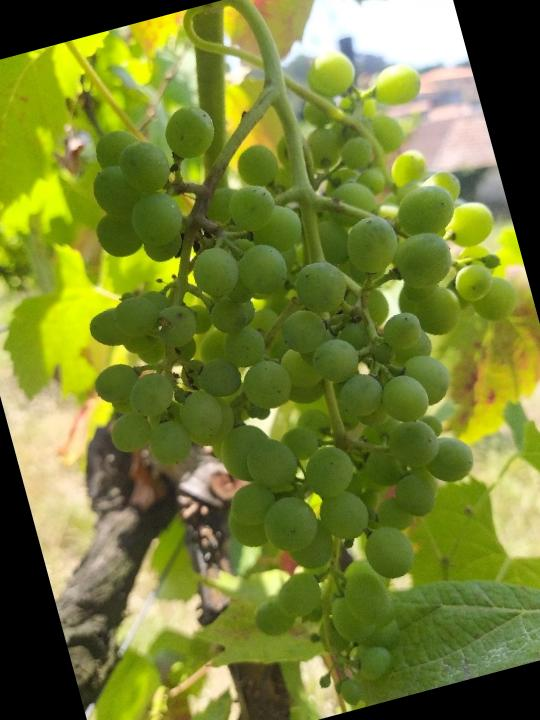grape: (26, 20, 540, 720)
